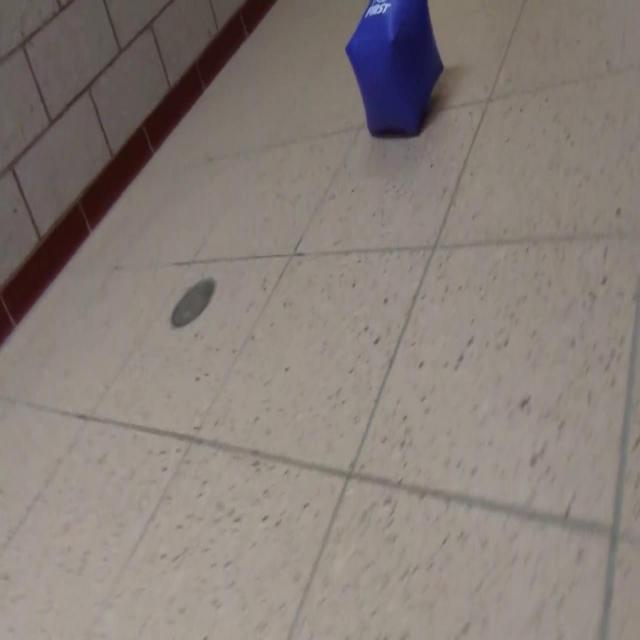frc_cube: (344, 0, 443, 141)
